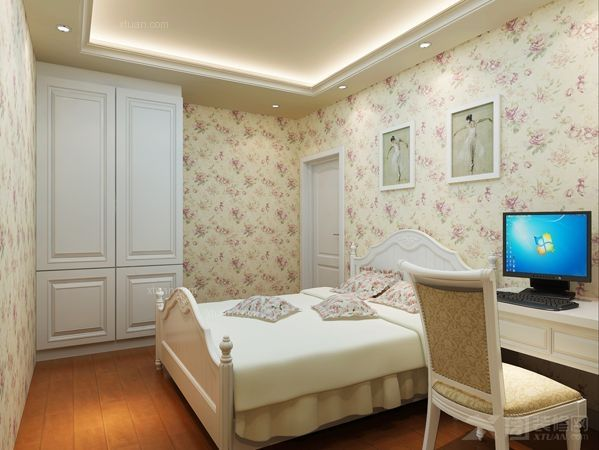床: (160, 284, 432, 440)
枕头: (347, 266, 421, 308), (228, 294, 294, 324), (317, 294, 371, 322)
灯: (50, 23, 73, 36), (268, 101, 284, 111), (419, 41, 435, 51), (334, 85, 349, 95)
